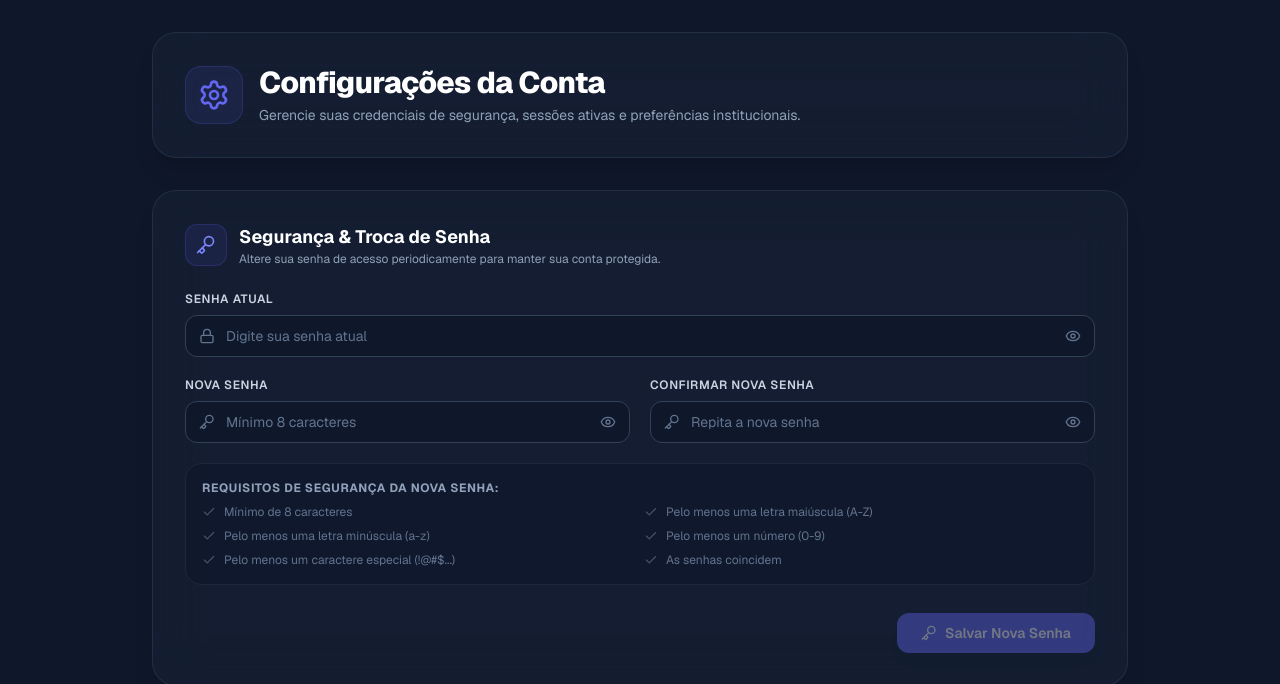
Scenario: UI: ConfiguracoesClient › deve submeter a troca de senha com sucesso
Type "SenhaAntiga123!" into the password field labelled "Senha Atual".
click(640, 336); type("SenhaAntiga123!")  # box [185,315,1095,357]
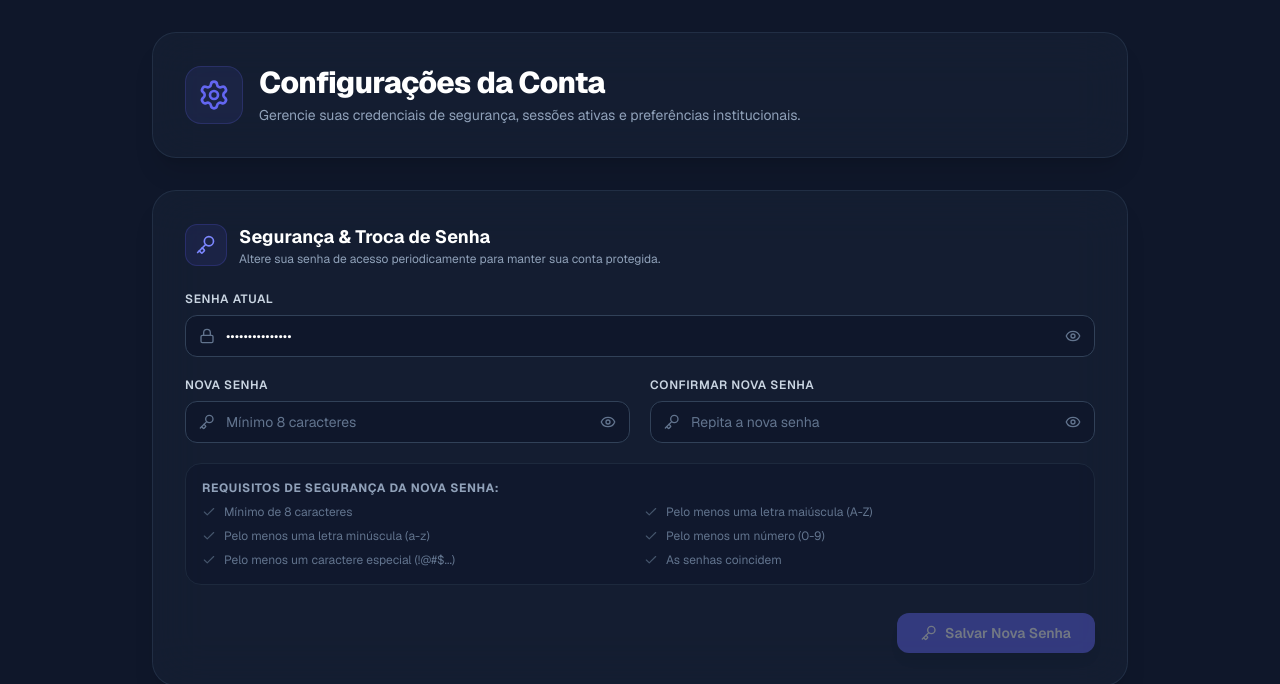
Type "NovaSenhaForte123!" into the password field labelled "Nova Senha".
click(408, 422); type("NovaSenhaForte123!")  # box [185,401,630,443]
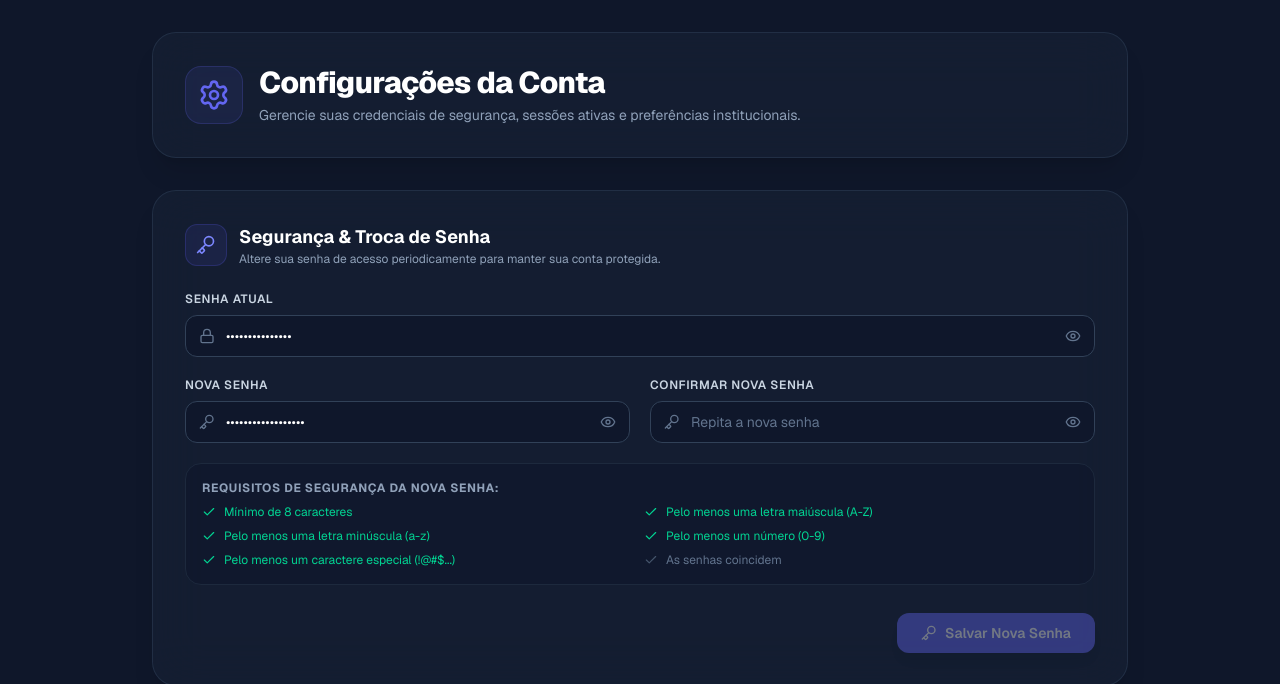
Type "NovaSenhaForte123!" into the password field labelled "Confirmar Nova Senha".
click(872, 422); type("NovaSenhaForte123!")  # box [650,401,1095,443]
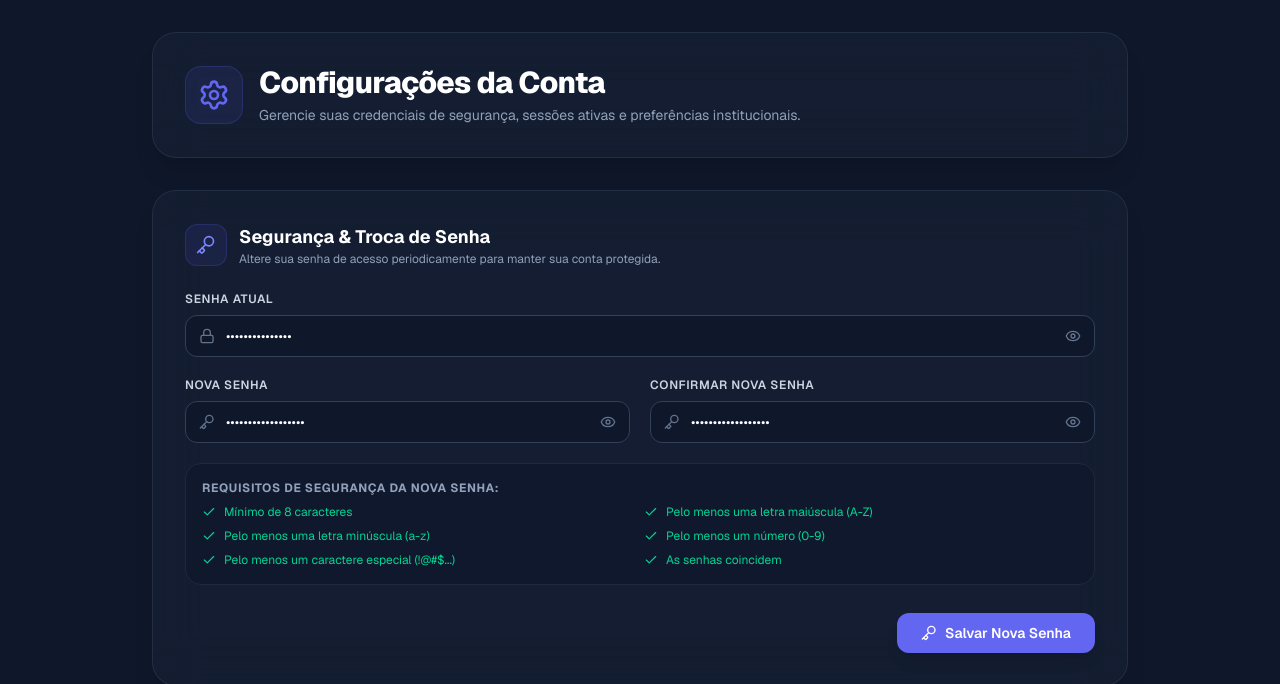
Now the button "Salvar Nova Senha" is enabled
Click the button "Salvar Nova Senha".
click(996, 633)  # box [897,613,1095,653]
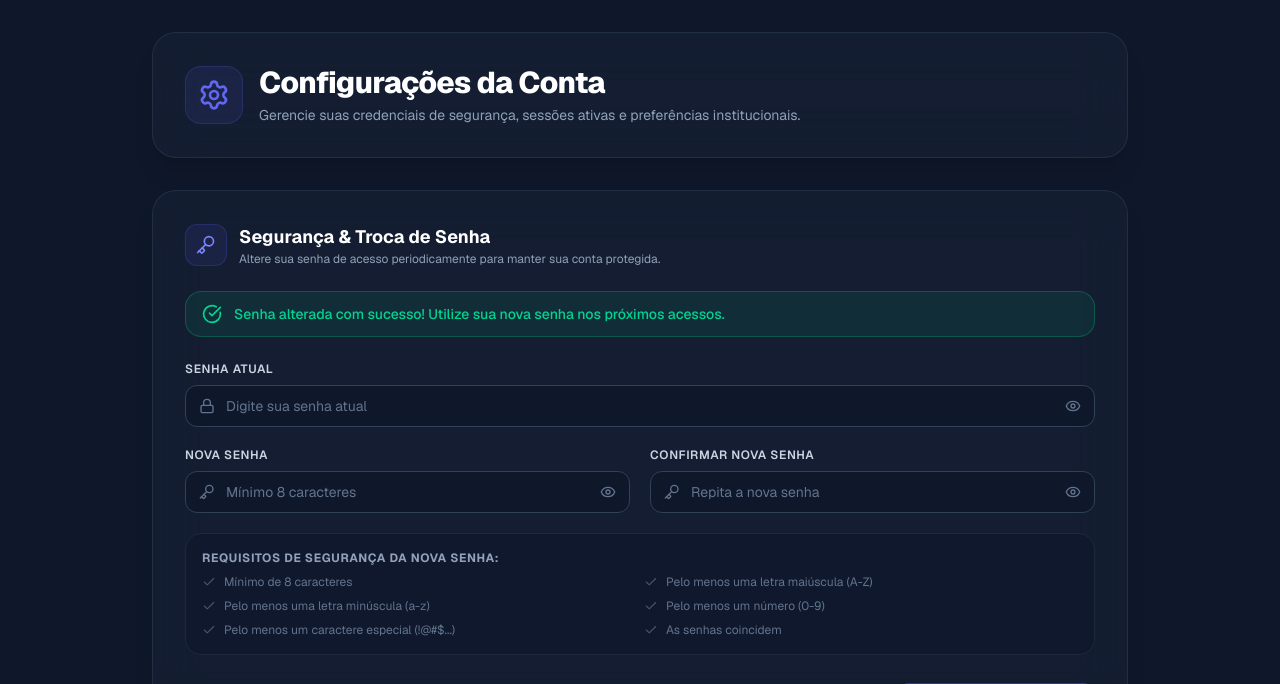
Now the text "Senha alterada com sucesso!" is shown, box [234,305,725,323]
